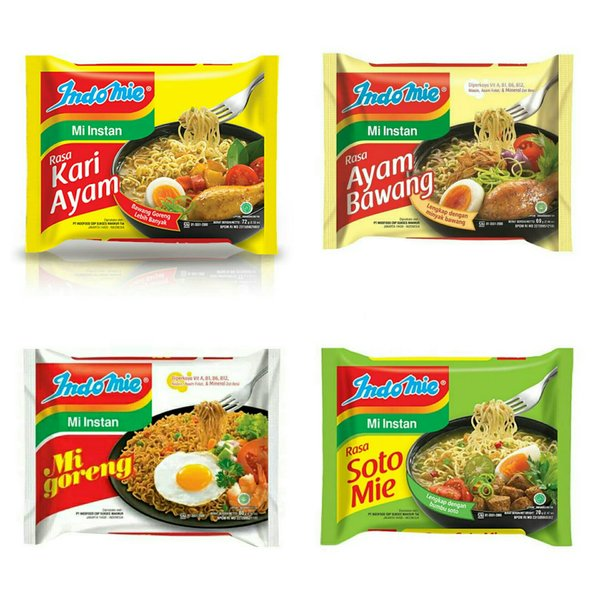indomie ayam bawang: (307, 32, 584, 284)
indomie kari ayam: (10, 39, 308, 284)
